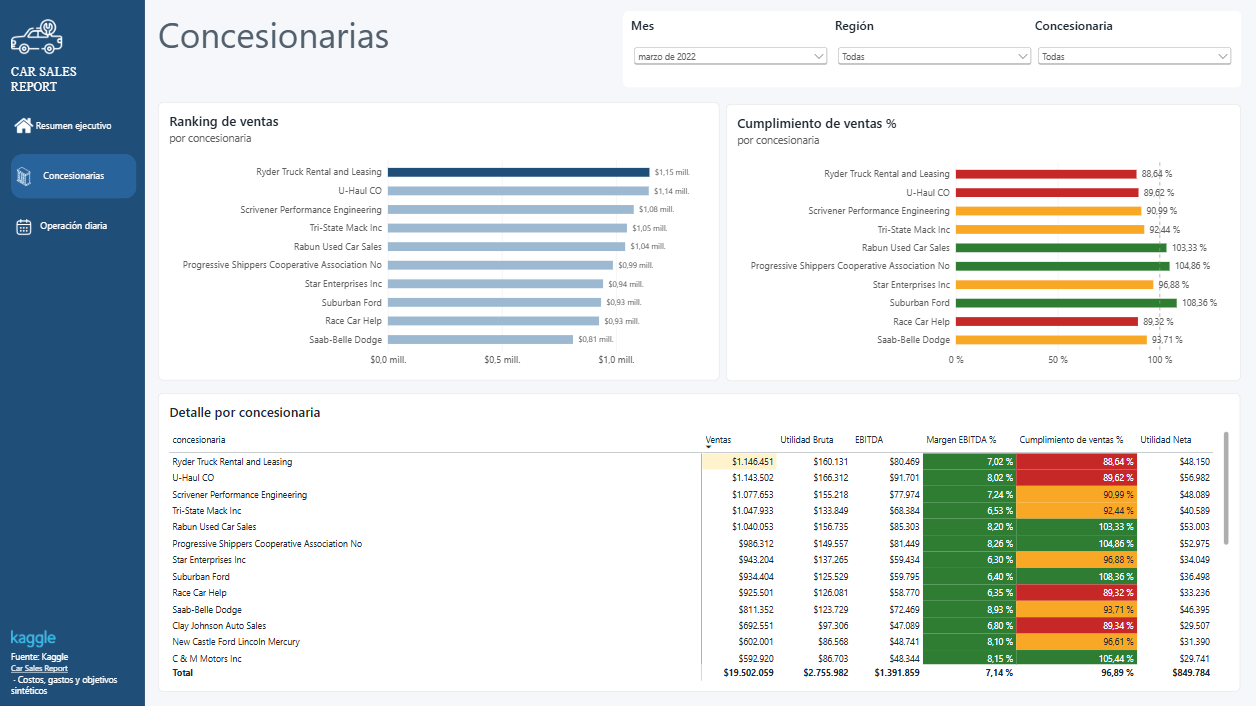

Layout of this report page (visuals, bound fields, positions):
{"tool":"powerbi","page":{"name":"Concesionarias","canvas":[1920,1080],"ordinal":1},"visuals":[{"type":"shape","box":[0,0,221.8,1080],"z":0,"group":"g2"},{"type":"shape","box":[950.1,21.3,941.7,116.7],"z":0},{"type":"textbox","box":[18.8,104.1,191.2,56.5],"z":1000,"group":"g2"},{"type":"image","box":[18.5,181.2,39.5,28.6],"z":1000},{"type":"slicer","title":"Mes","fields":{"Values":["DimMes.mes"]},"box":[962.1,30.1,303.8,103.3],"z":2000},{"type":"pageNavigator","box":[18.6,162.9,191.4,222.9],"z":2000,"group":"g2"},{"type":"image","box":[18.5,258.5,39.5,28.6],"z":2000},{"type":"image","box":[18.5,336.5,39.5,28.6],"z":3000},{"type":"group","id":"g1","title":"Group 3","box":[0,0,221.4,1080],"z":4000},{"type":"group","id":"g2","title":"Group 1","box":[0,0,221.8,1080],"z":5000,"group":"g1"},{"type":"textbox","box":[241.7,20,685,116.7],"z":5000},{"type":"barChart","title":"Ranking de ventas","fields":{"Category":["dim_concesionaria.dealer_name"],"Y":["kpis.Ventas"]},"box":[241.9,160.4,855.2,424.4],"z":6000},{"type":"image","box":[18.8,20.6,78.6,77.9],"z":7000,"group":"g2"},{"type":"slicer","title":"Región","fields":{"Values":["dim_concesionaria.region"]},"box":[1273.2,30.1,303.8,103.3],"z":7000},{"type":"barChart","title":"Cumplimiento  de ventas %","fields":{"Category":["dim_concesionaria.dealer_name"],"Y":["kpis.Cumplimiento %"]},"box":[1106.2,163,784,421.8],"z":7000},{"type":"slicer","title":"Concesionaria","fields":{"Values":["dim_concesionaria.dealer_name"]},"box":[1578.2,30.1,303.8,103.3],"z":8000},{"type":"pivotTable","title":"Detalle por concesionaria","fields":{"Rows":["dim_concesionaria.dealer_name"],"Values":["kpis.Ventas","kpis.Utilidad Bruta","kpis.EBITDA","kpis.Margen EBITDA %","kpis.Cumplimiento %","kpis.Utilidad Neta"]},"box":[241.9,602.9,1648.3,455.4],"z":8000},{"type":"image","box":[18.5,181.2,39.5,28.6],"z":9500,"group":"g1"},{"type":"image","box":[18.5,258.5,39.5,28.6],"z":10000,"group":"g1"},{"type":"image","box":[18.5,336.5,39.5,28.6],"z":10500,"group":"g1"},{"type":"image","box":[18.5,959.2,68.2,35.9],"z":11000,"group":"g2"},{"type":"textbox","box":[18.5,995.4,170,77.7],"z":12000,"group":"g2"}]}

Visuals, with their boxes on the page's 1920x1080 design canvas (x1, y1, x2, y2). These are canvas units, not pixel positions in the 1256x706 screenshot, which may show the page scaled, cropped or inside an application window:
shape: l=0, t=0, r=222, b=1080
shape: l=950, t=21, r=1892, b=138
textbox: l=19, t=104, r=210, b=161
image: l=18, t=181, r=58, b=210
"Mes" slicer: l=962, t=30, r=1266, b=133
pageNavigator: l=19, t=163, r=210, b=386
image: l=18, t=258, r=58, b=287
image: l=18, t=336, r=58, b=365
"Group 3" group: l=0, t=0, r=221, b=1080
"Group 1" group: l=0, t=0, r=222, b=1080
textbox: l=242, t=20, r=927, b=137
"Ranking de ventas" barChart: l=242, t=160, r=1097, b=585
image: l=19, t=21, r=97, b=98
"Región" slicer: l=1273, t=30, r=1577, b=133
"Cumplimiento  de ventas %" barChart: l=1106, t=163, r=1890, b=585
"Concesionaria" slicer: l=1578, t=30, r=1882, b=133
"Detalle por concesionaria" pivotTable: l=242, t=603, r=1890, b=1058
image: l=18, t=181, r=58, b=210
image: l=18, t=258, r=58, b=287
image: l=18, t=336, r=58, b=365
image: l=18, t=959, r=87, b=995
textbox: l=18, t=995, r=188, b=1073
